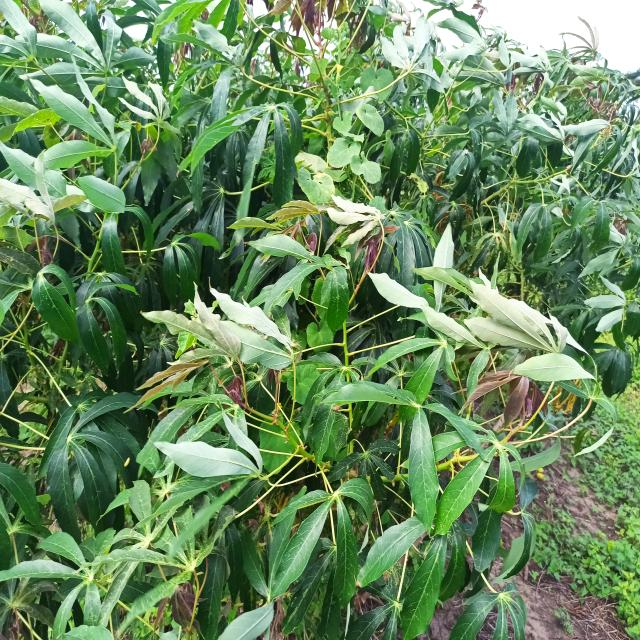Mosca: (110, 454, 139, 468), (87, 394, 104, 412), (326, 401, 347, 415), (402, 217, 412, 232)
